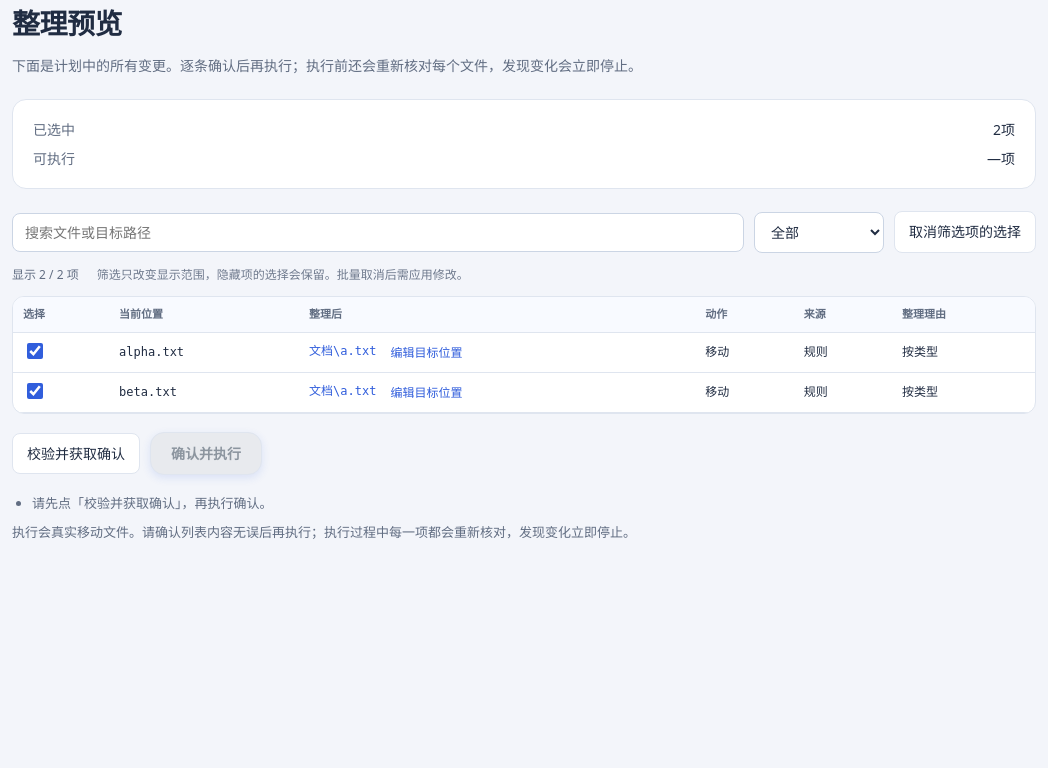
Scenario: 预览页 UI 接线 › 搜索后批量取消只影响匹配项，清空搜索不丢选择且旧确认失效
The image size is (1048, 768).
Click the button "校验并获取确认" at [76, 453], box top-left (12, 432), bottom-right (140, 474)
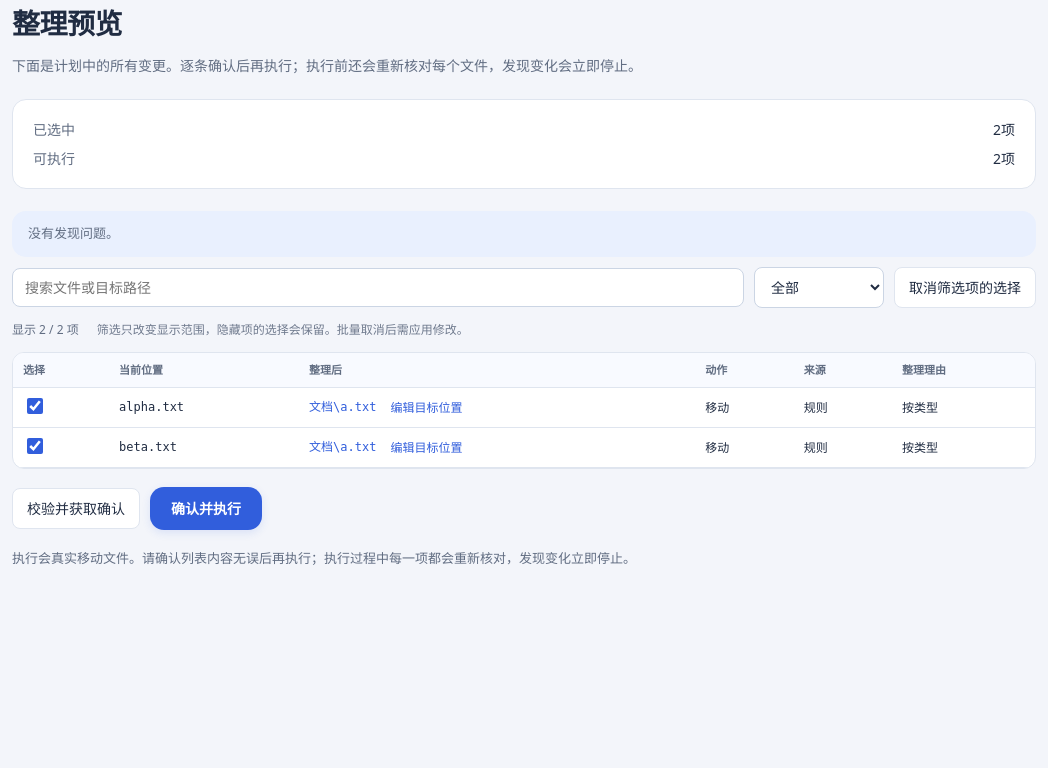
Now the button "确认并执行" is enabled, box top-left (150, 487), bottom-right (262, 530)
Type "alpha" into the search field labelled "搜索文件或目标路径" at [378, 288], box top-left (12, 268), bottom-right (744, 307)
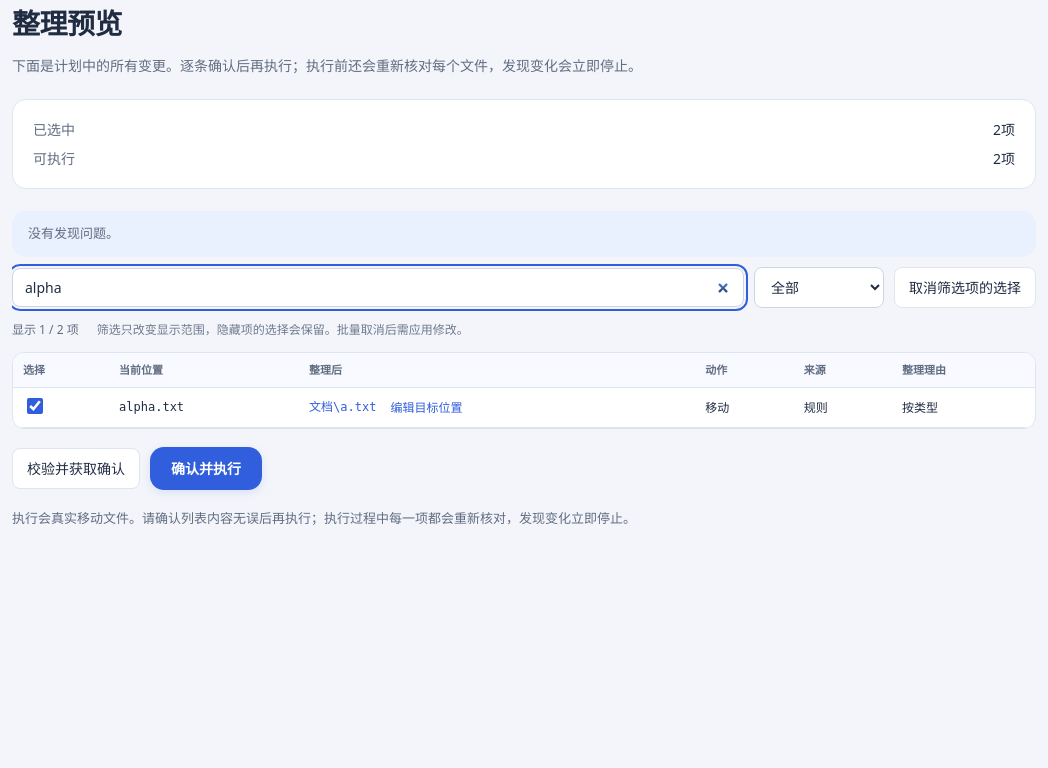
Now the number of checkboxes is 1, box top-left (27, 398), bottom-right (43, 414)
Click the button "取消筛选项的选择" at [965, 287], box top-left (894, 267), bottom-right (1036, 308)
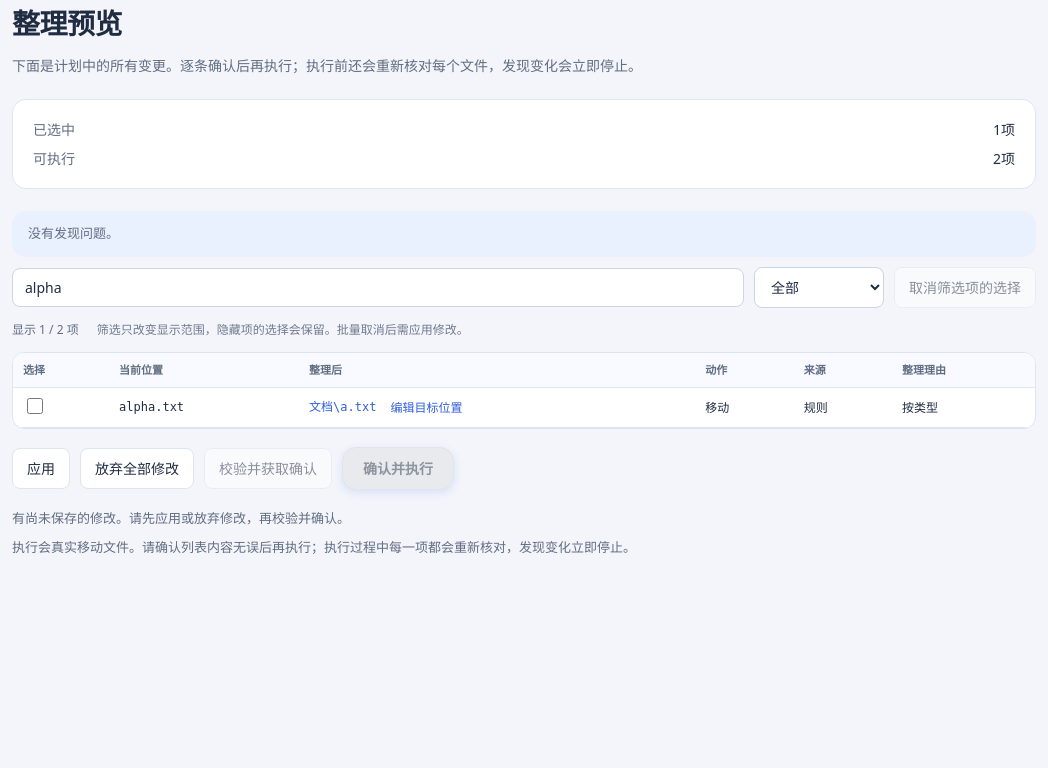
Clear the search field named "搜索文件或目标路径" at [378, 288], box top-left (12, 268), bottom-right (744, 307)
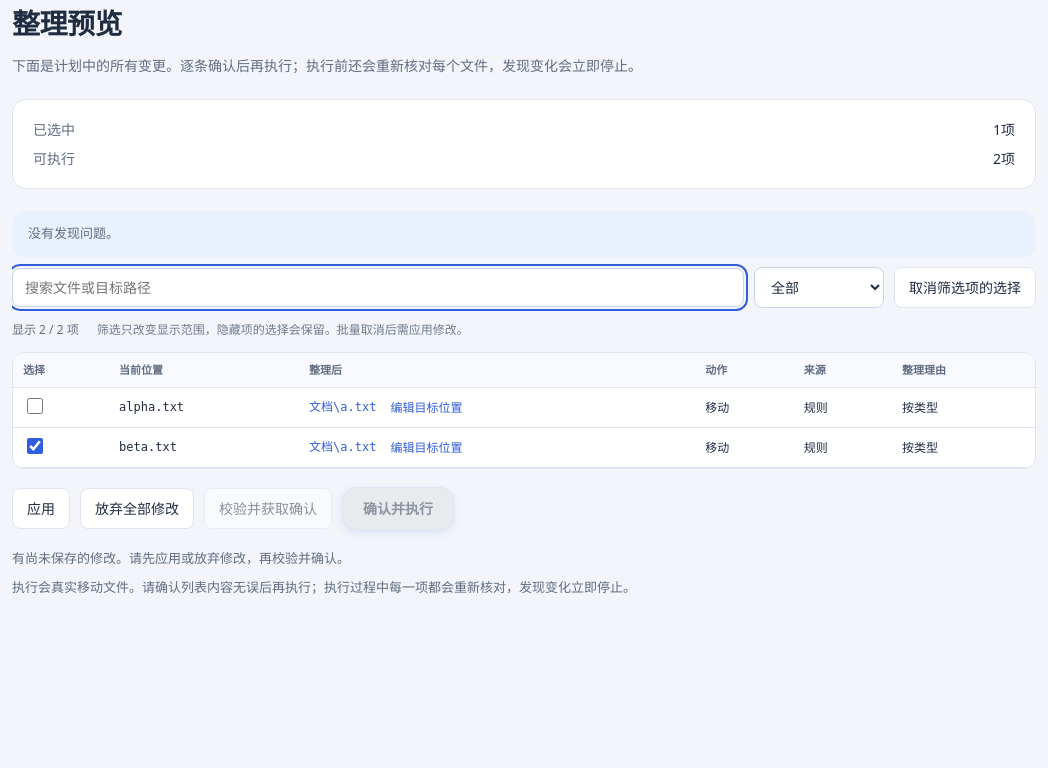
Now the checkbox named "alpha.txt" is not checked, box top-left (27, 398), bottom-right (43, 414)
Now the button "确认并执行" is disabled, box top-left (342, 487), bottom-right (454, 530)
Now the checkbox named "beta.txt" is checked, box top-left (27, 438), bottom-right (43, 454)
